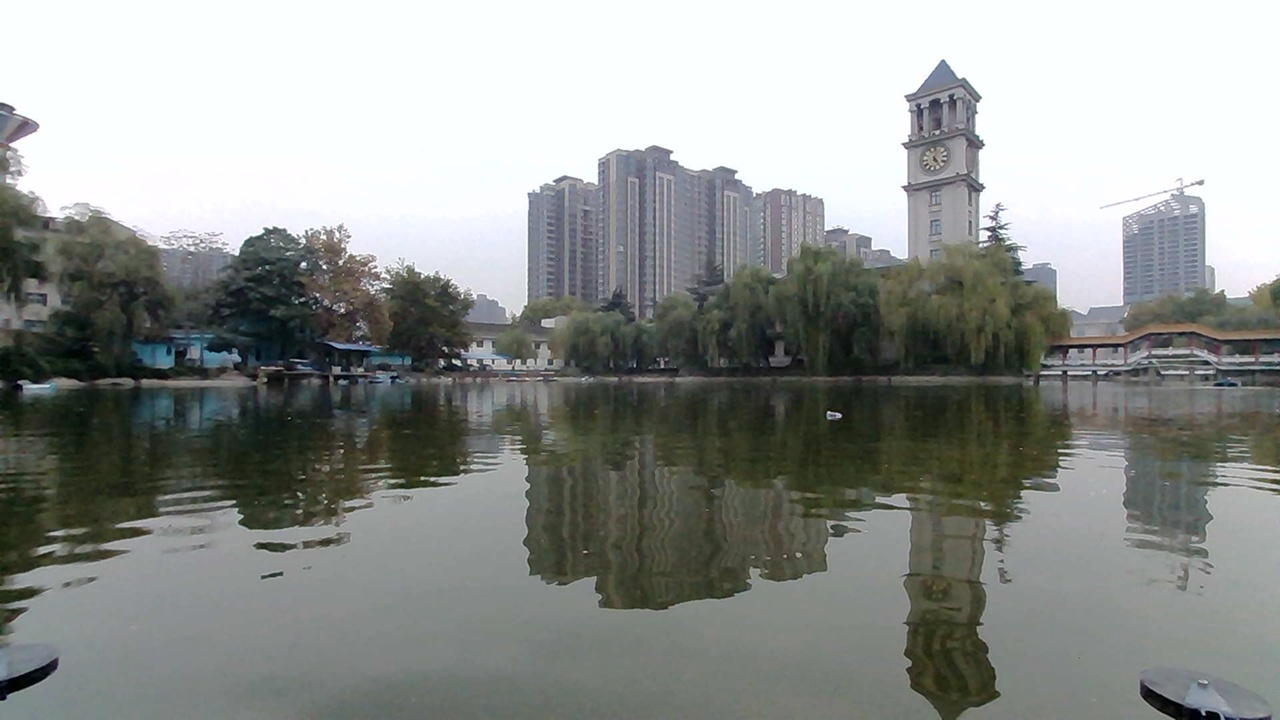bottle: (822, 399, 861, 429)
